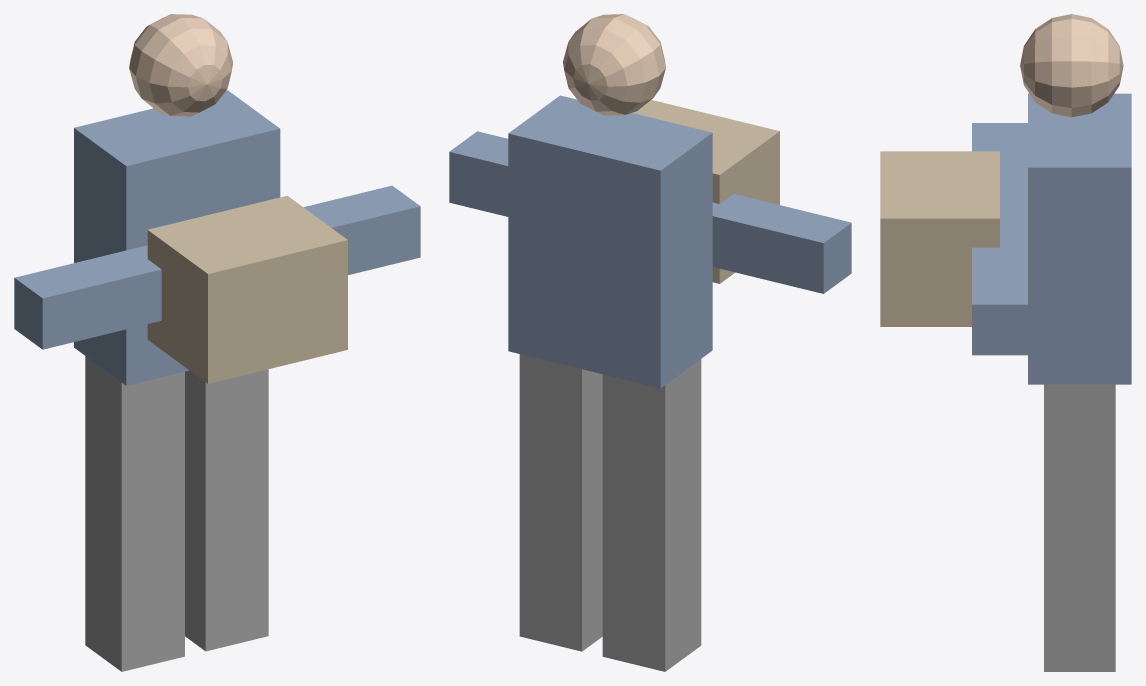
File: carry_crate.glb
3 renders of one model, left to right at view 1: azimuth 30°, elevation 25°; view 2: azimuth 150°, elevation 25°; view 3: azimuth 270°, elevation 25°, orthographic.
Parts seen in each view (by area): view 1: crate, leg_l, torso, leg_r, arm_l, head, arm_r; view 2: torso, leg_l, leg_r, arm_l, head, crate, arm_r; view 3: torso, leg_r, crate, head, arm_r, arm_l.
Boxes of the visible parts, box(x1,y1,x2,y2) form: crate: box(147, 195, 347, 383); leg_l: box(85, 356, 184, 671); torso: box(74, 90, 280, 385); leg_r: box(185, 369, 268, 651); arm_l: box(14, 245, 161, 349); head: box(129, 14, 232, 116); arm_r: box(303, 185, 420, 274); torso: box(508, 95, 712, 388); leg_l: box(602, 359, 701, 671); leg_r: box(519, 354, 602, 651); arm_l: box(712, 194, 851, 293); head: box(563, 14, 665, 115); crate: box(632, 100, 779, 283); arm_r: box(449, 131, 508, 216); torso: box(1028, 93, 1131, 384); leg_r: box(1044, 384, 1115, 671); crate: box(880, 151, 999, 326); head: box(1020, 14, 1123, 117); arm_r: box(972, 210, 1027, 355); arm_l: box(972, 123, 1027, 217).
Bounding box in the file's own units: 1.08 × 1.71 × 0.6299.
